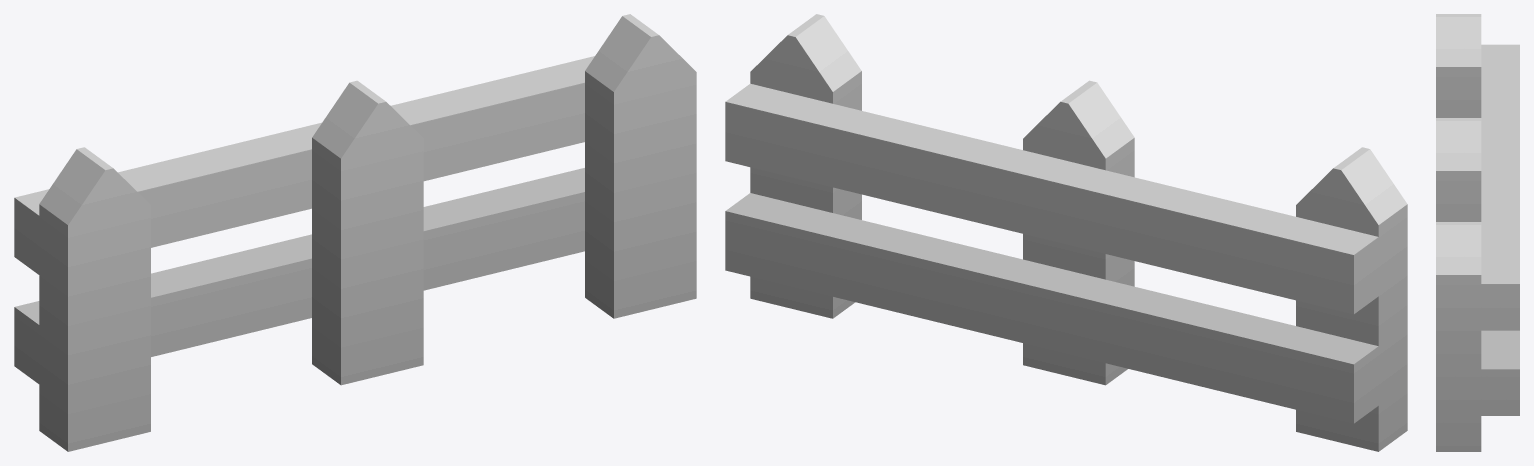
File: village_fence.glb
3 renders of one model, left to right at view 1: azimuth 30°, elevation 25°; view 2: azimuth 150°, elevation 25°; view 3: azimuth 270°, elevation 25°, orthographic. The views are drawn at different scales.
Visible parts, largest first — view 1: village_fence; view 2: village_fence; view 3: village_fence.
Boxes of the visible parts, x1=… form: village_fence: x1=14, y1=14, x2=696, y2=451; village_fence: x1=725, y1=14, x2=1407, y2=451; village_fence: x1=1436, y1=14, x2=1519, y2=451.
Bounding box in the file's own units: 2.65 × 1.1 × 0.3929.
1 material, 1 textured.
